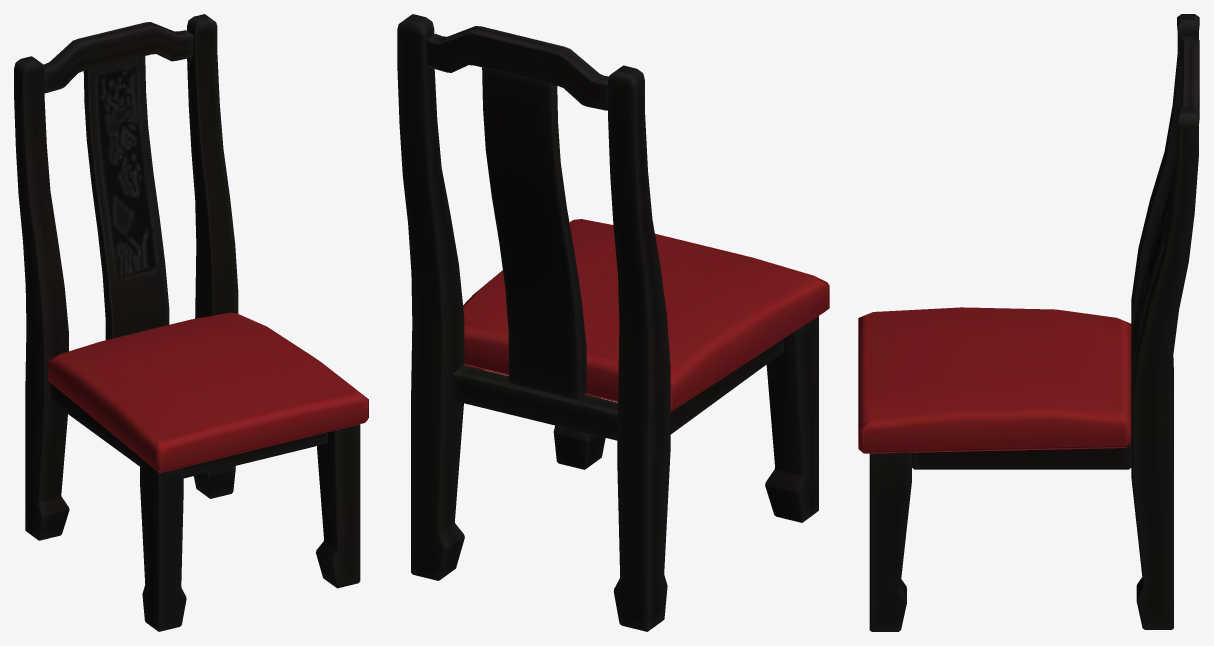
3 views of the same model, side by side, from view 1: azimuth 30°, elevation 25°; view 2: azimuth 150°, elevation 25°; view 3: azimuth 270°, elevation 25° (orthographic). The views are drawn at different scales.
Bounding box in the file's own units: 6 × 12.59 × 7.49.
Materials: 1 (1 with a texture image).
